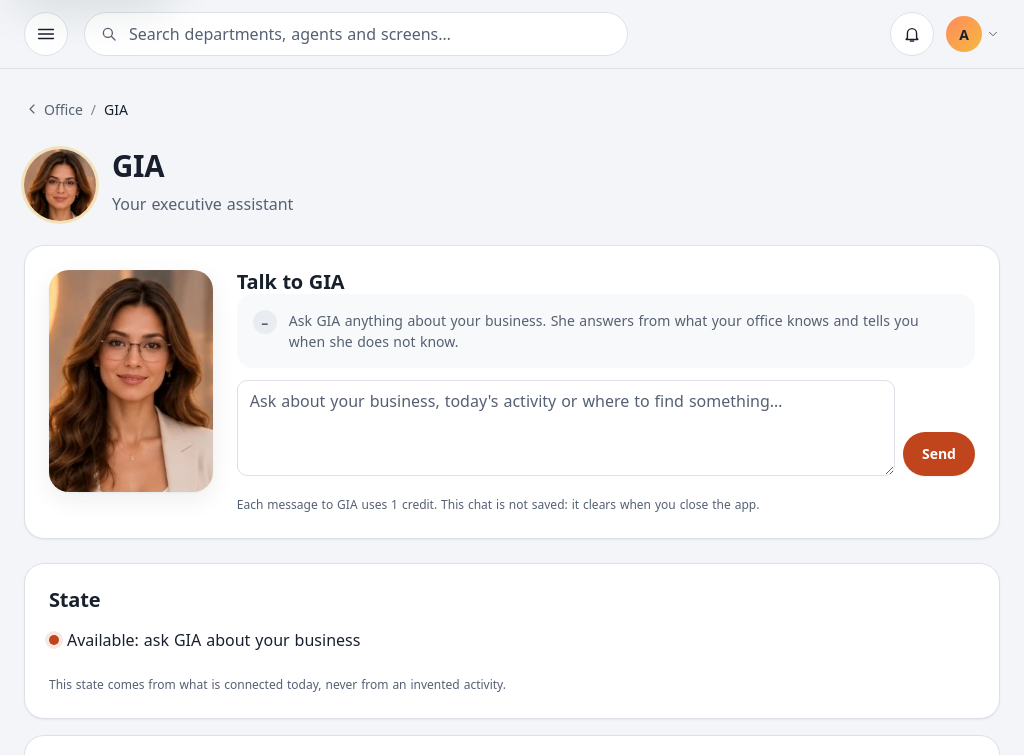
Test: GIA shows what to attend to first, as the Decision Engine ranked it › shows each decision with its reason, data, link and next step, and runs nothing
Replace the text in the text box named "Your message to GIA" with "¿Qué debería atender primero hoy?" at (566, 428), box [237, 380, 895, 476]
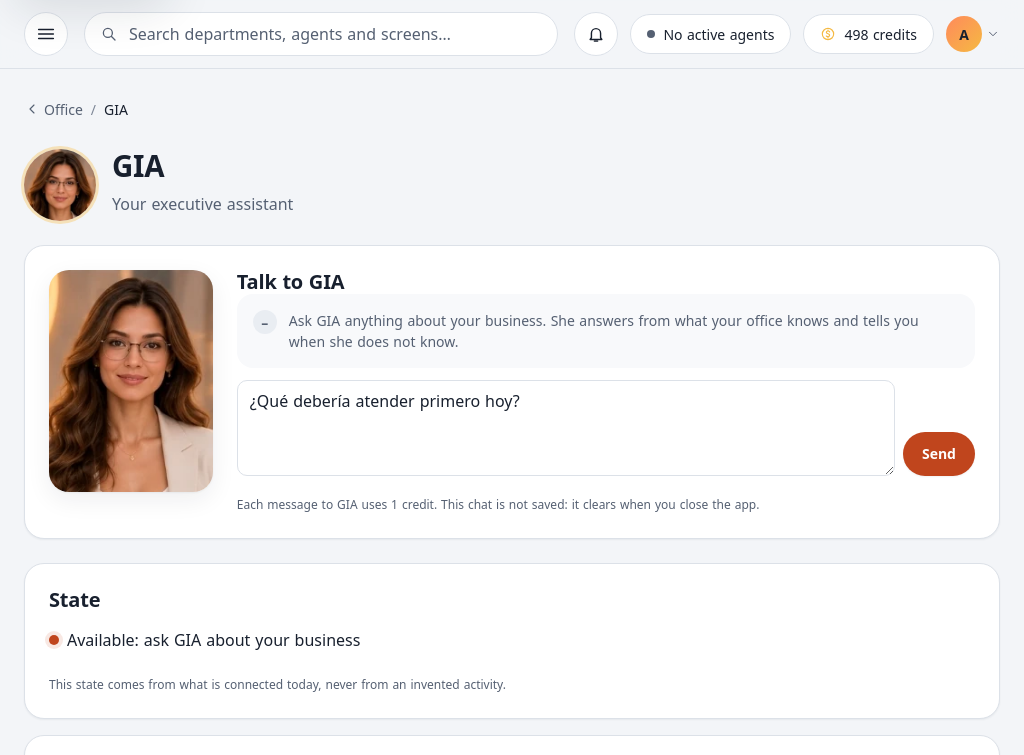
Click the button "Send".
click(939, 454)  # box [903, 432, 975, 476]
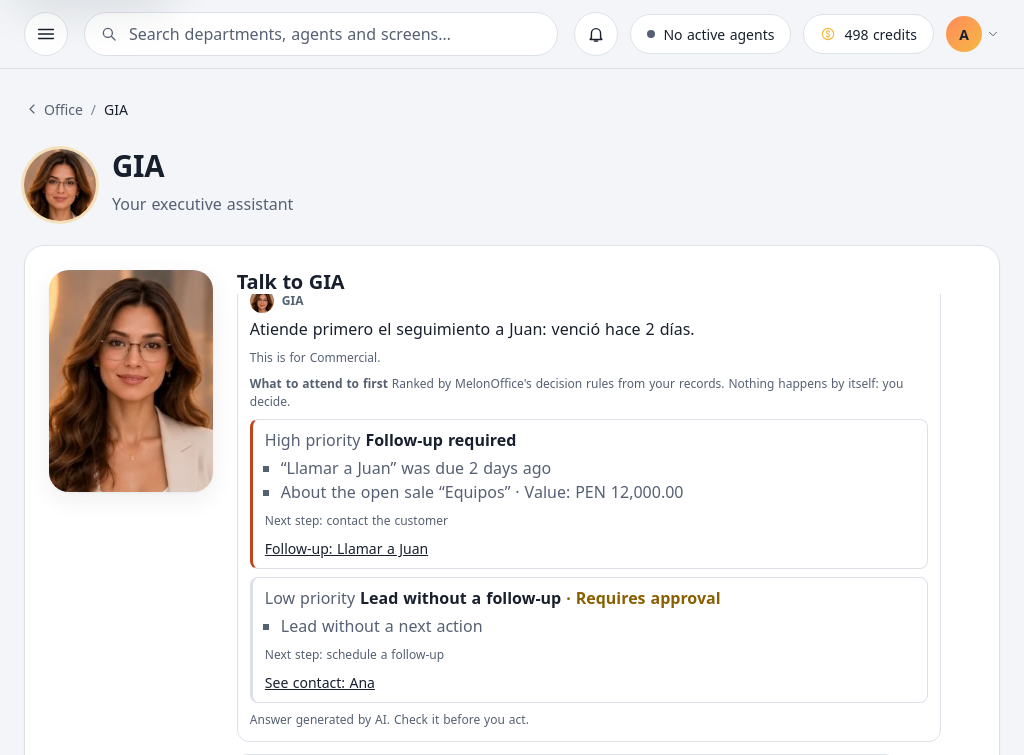
Check: the text "Follow-up required" is shown, box [365, 429, 516, 451]
Check: the text "High priority" is shown, box [265, 429, 360, 451]
Check: the list item "“Llamar a Juan” was due 2 days ago" is shown, box [281, 457, 551, 479]
